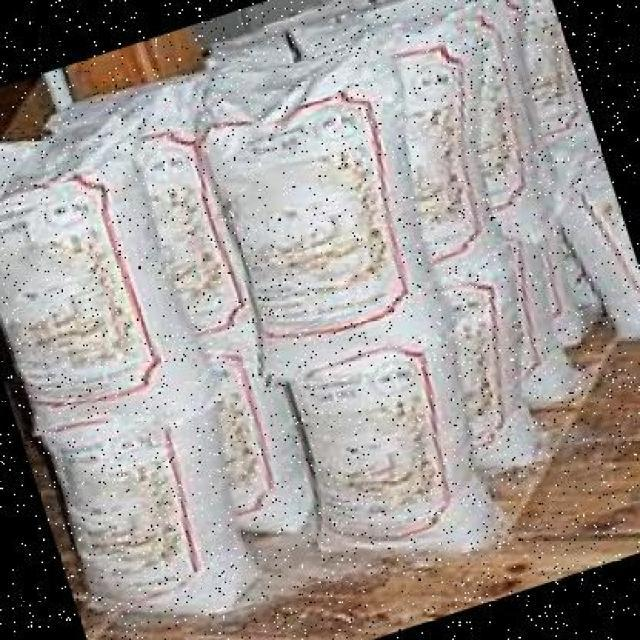gunny_bag: (196, 36, 449, 377), (0, 122, 219, 439), (39, 73, 264, 356), (284, 318, 498, 551), (360, 0, 550, 243), (40, 404, 257, 609), (384, 5, 505, 288), (203, 351, 322, 535), (446, 244, 544, 463), (545, 122, 640, 331), (518, 219, 587, 404), (526, 0, 593, 147), (540, 220, 604, 347), (280, 12, 367, 59), (207, 28, 300, 70)
